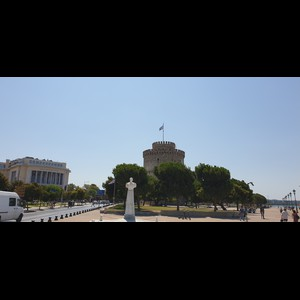White Tower: (141, 124, 188, 174)
